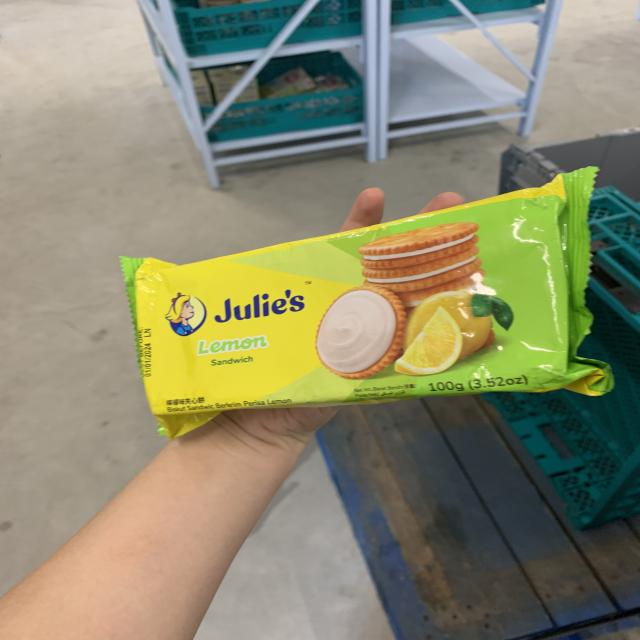object_name: (140, 249, 576, 392)
